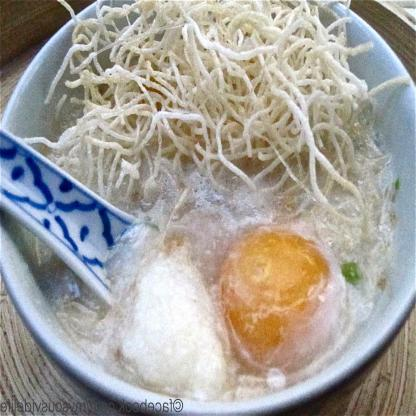Joke: (28, 18, 402, 394)
